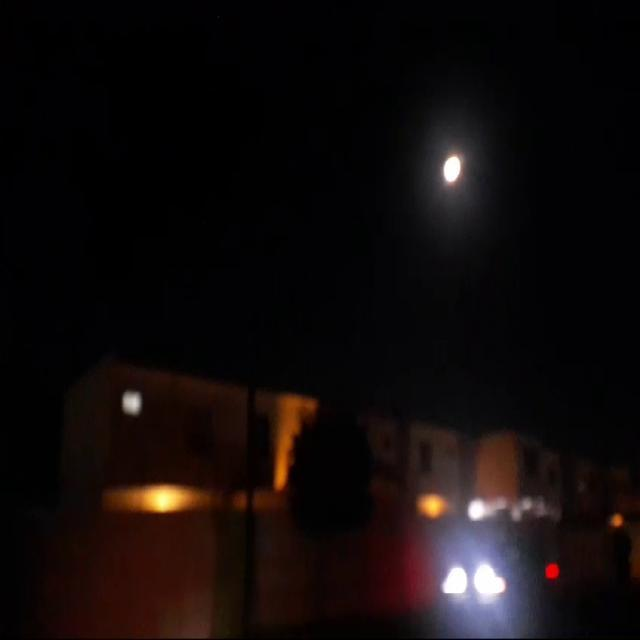moon: (428, 155, 448, 189)
